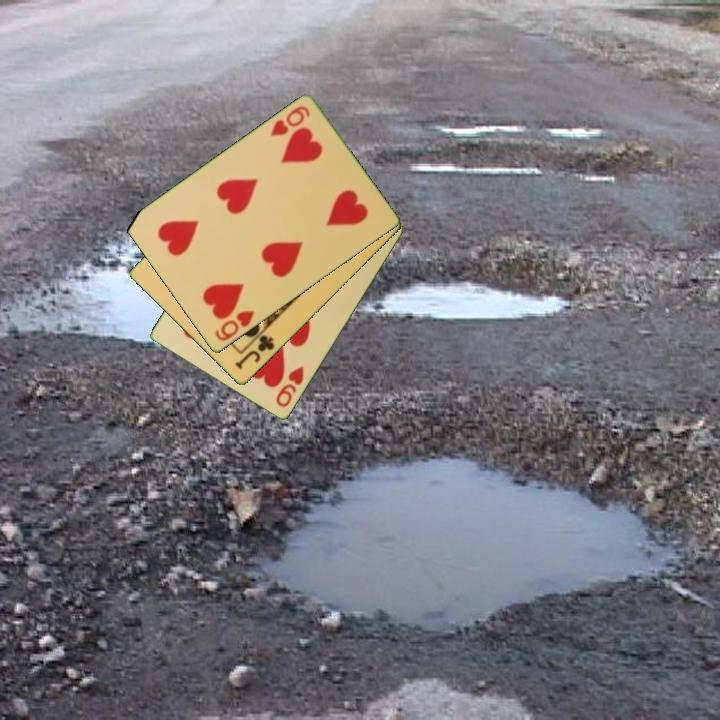6h: (211, 307, 258, 344), (267, 103, 313, 140)
9h: (272, 363, 307, 411)
Jc: (231, 332, 278, 373)
